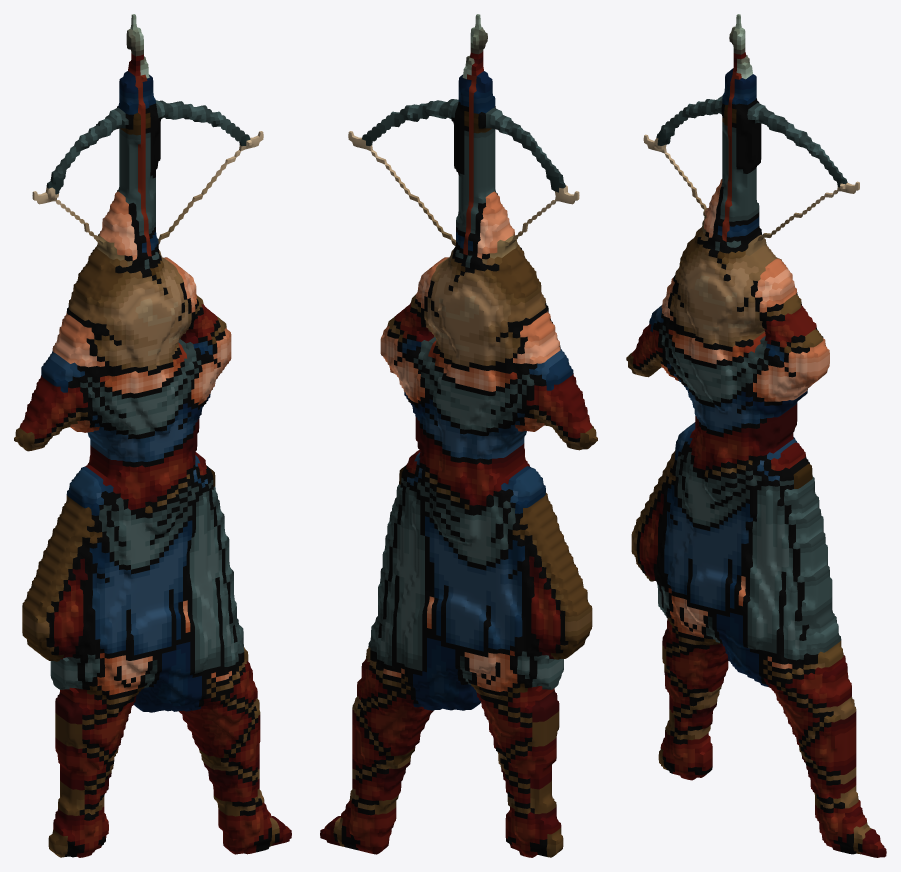
File: Fight_006_2_05.obj
3 renders of one model, left to right at view 1: azimuth 30°, elevation 25°; view 2: azimuth 150°, elevation 25°; view 3: azimuth 330°, elevation 25°, orthographic. The views are drawn at different scales.
Bounding box in the file's own units: 5.86 × 17.48 × 1.7.
1 material, 1 textured.
